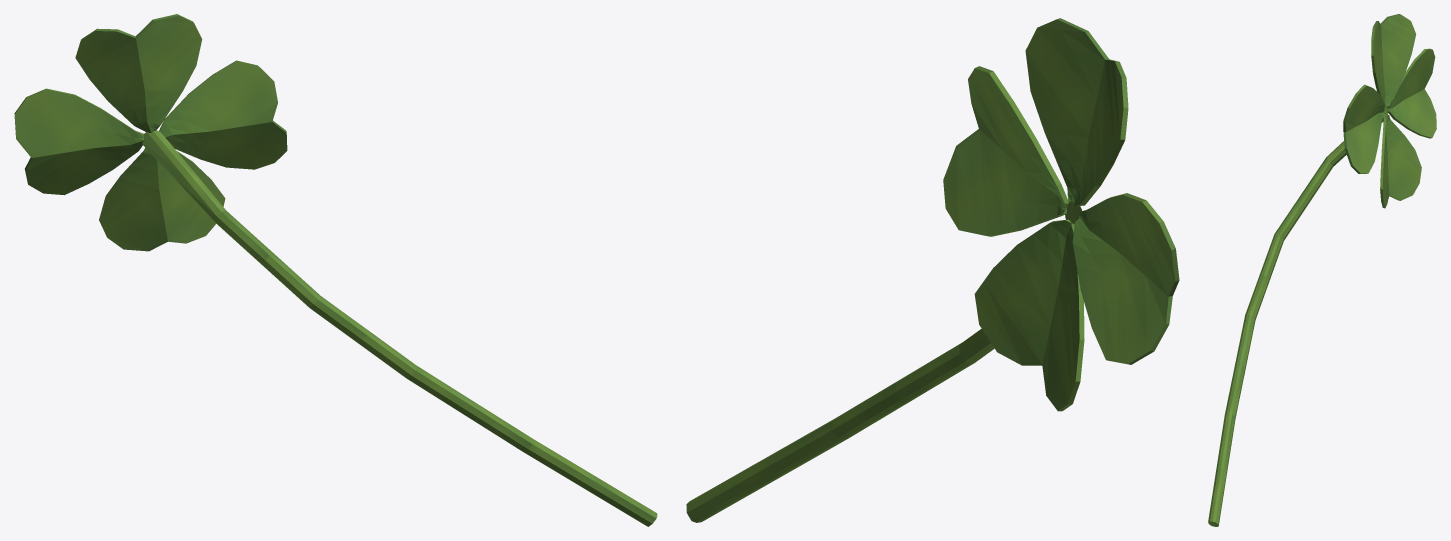
Rendered from FOUR LEAF CLOVER.fbx.
The picture shows the model from 3 angles, left to right: view 1: azimuth 30°, elevation 25°; view 2: azimuth 150°, elevation 25°; view 3: azimuth 270°, elevation 25°; orthographic projection. The views are drawn at different scales.
Visible parts, largest first — view 1: FOUR_LEAF_CLOVER; view 2: FOUR_LEAF_CLOVER; view 3: FOUR_LEAF_CLOVER.
Boxes of the visible parts, left/top/right/bottom form: FOUR_LEAF_CLOVER: left=14, top=14, right=657, bottom=526; FOUR_LEAF_CLOVER: left=686, top=18, right=1179, bottom=522; FOUR_LEAF_CLOVER: left=1208, top=14, right=1436, bottom=526.
Size of the model in its own units: 22.78 by 22.97 by 12.75.
